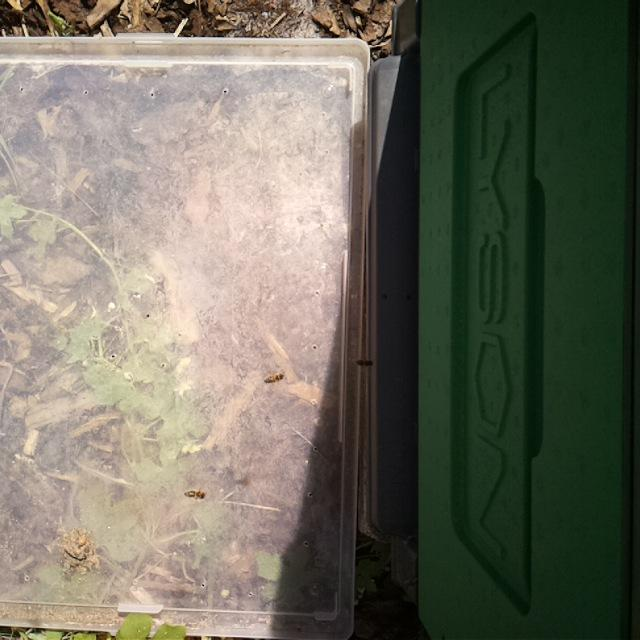worker-bee: (182, 485, 209, 505), (261, 371, 288, 387), (351, 357, 378, 371)
